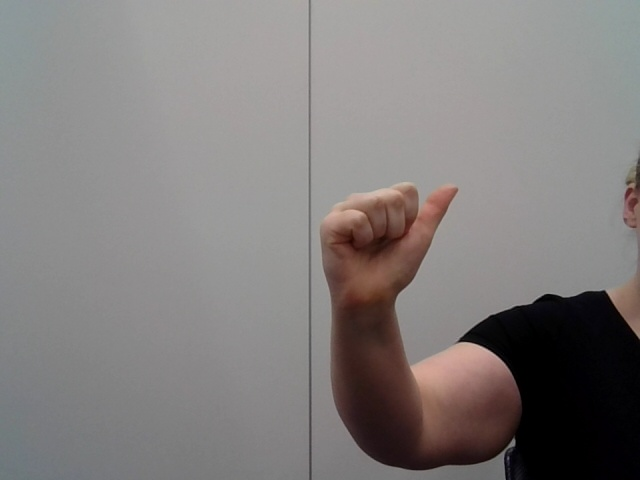left: (301, 169, 465, 317)
